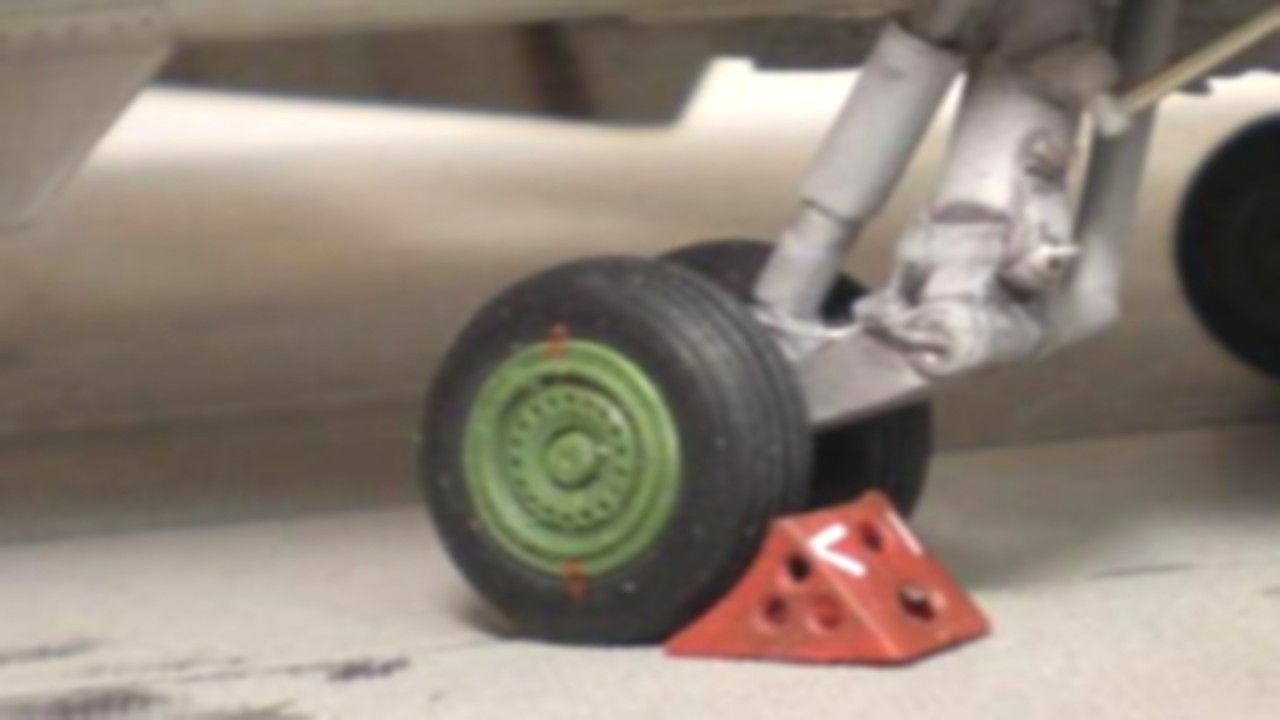chock: (633, 476, 1014, 684)
wheel: (356, 240, 857, 663), (1135, 93, 1280, 408)
